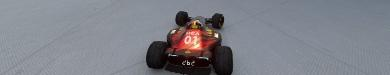Car: (145, 10, 233, 74)
grass: (0, 0, 389, 74)
